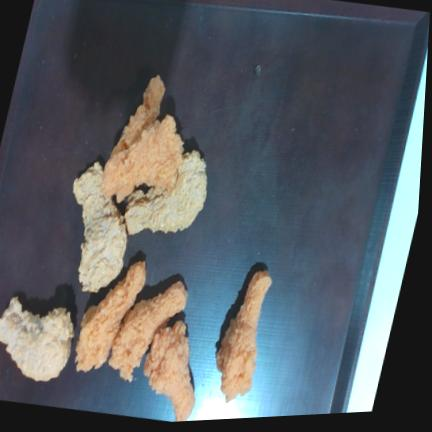chicken: (109, 281, 187, 381), (75, 263, 146, 372), (216, 271, 272, 402), (102, 114, 182, 202), (74, 162, 127, 292), (125, 150, 207, 234), (0, 297, 74, 381), (144, 321, 195, 422)
